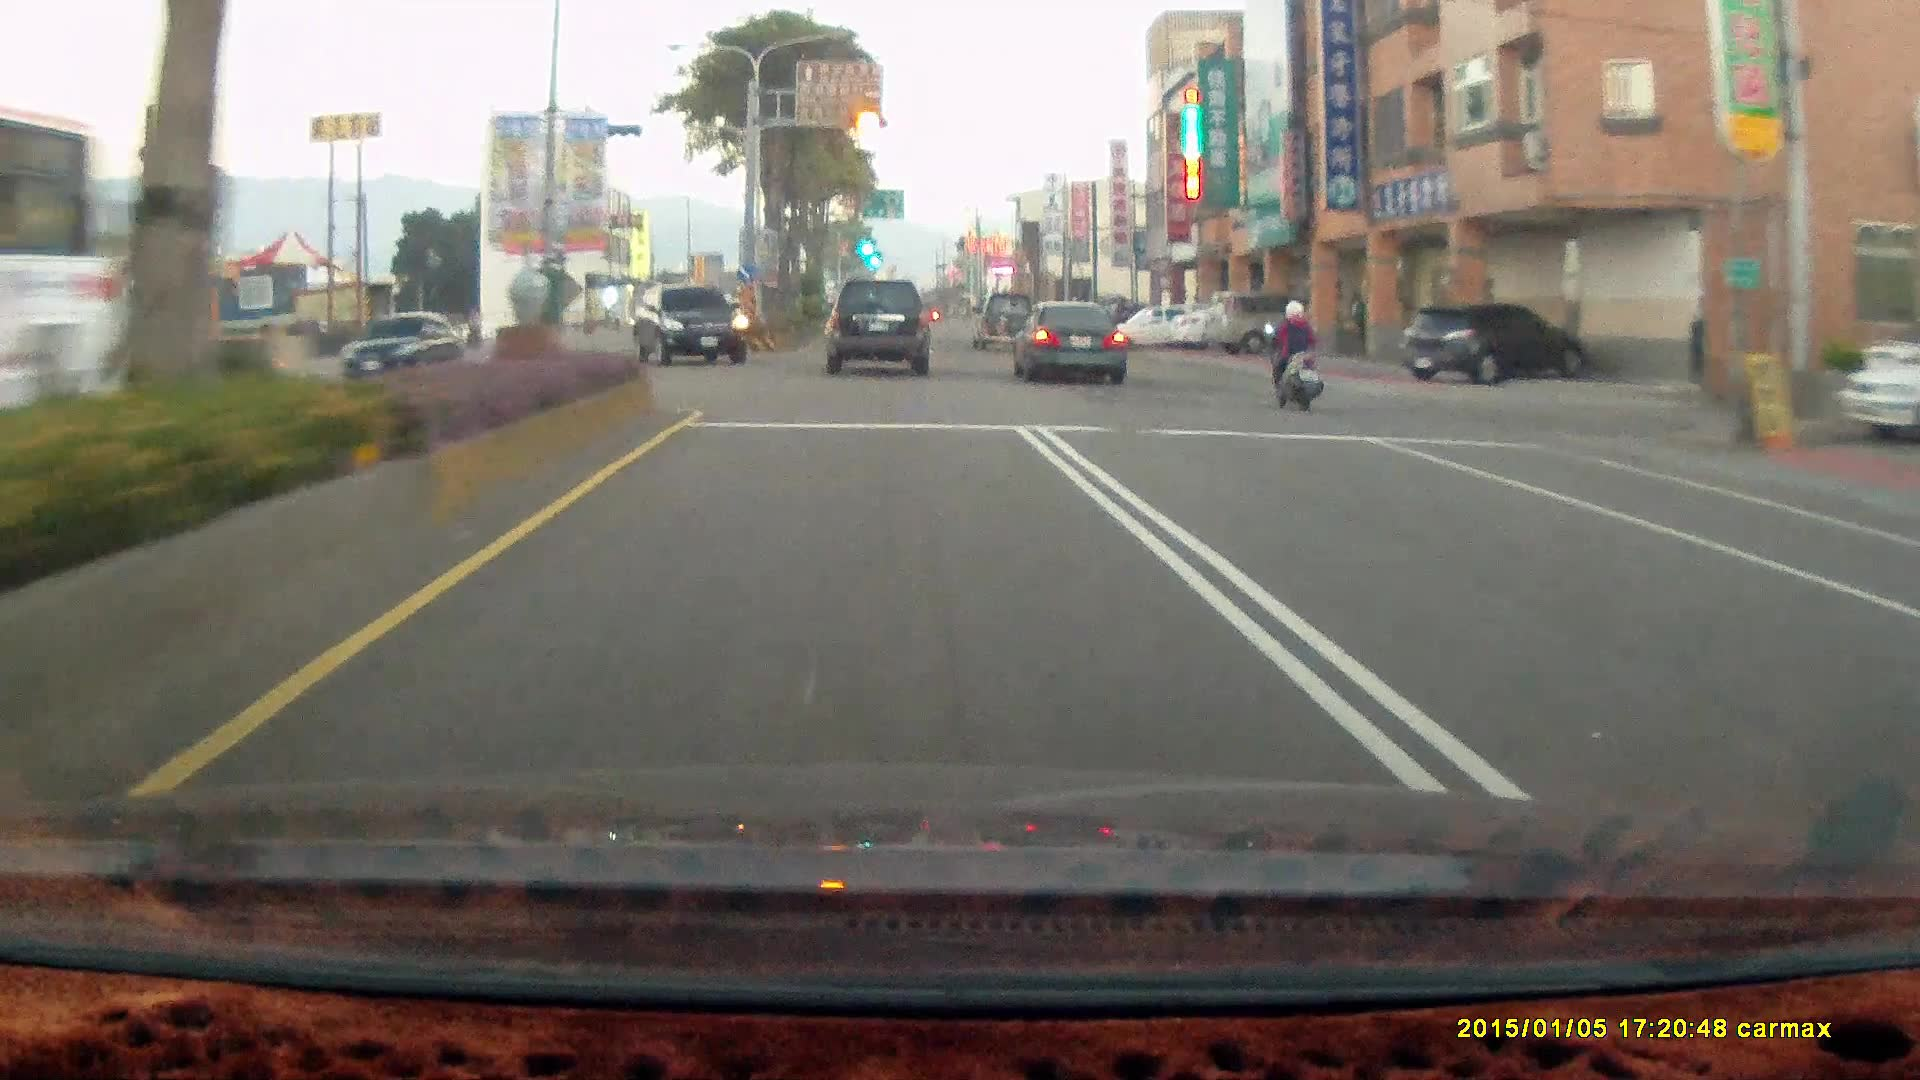pedestrian: (1344, 288, 1369, 353)
rider: (1256, 291, 1333, 419), (1268, 299, 1327, 410)
vehicle: (0, 111, 99, 458), (1397, 300, 1588, 384), (1402, 303, 1596, 384), (823, 281, 931, 378), (1009, 296, 1126, 382), (824, 278, 930, 374), (1010, 302, 1128, 384), (631, 283, 749, 363), (632, 287, 752, 364), (340, 307, 461, 382), (1829, 347, 1920, 445), (1200, 289, 1329, 355), (1834, 347, 1919, 444), (1200, 290, 1317, 358), (1107, 302, 1216, 350), (970, 289, 1038, 351)
